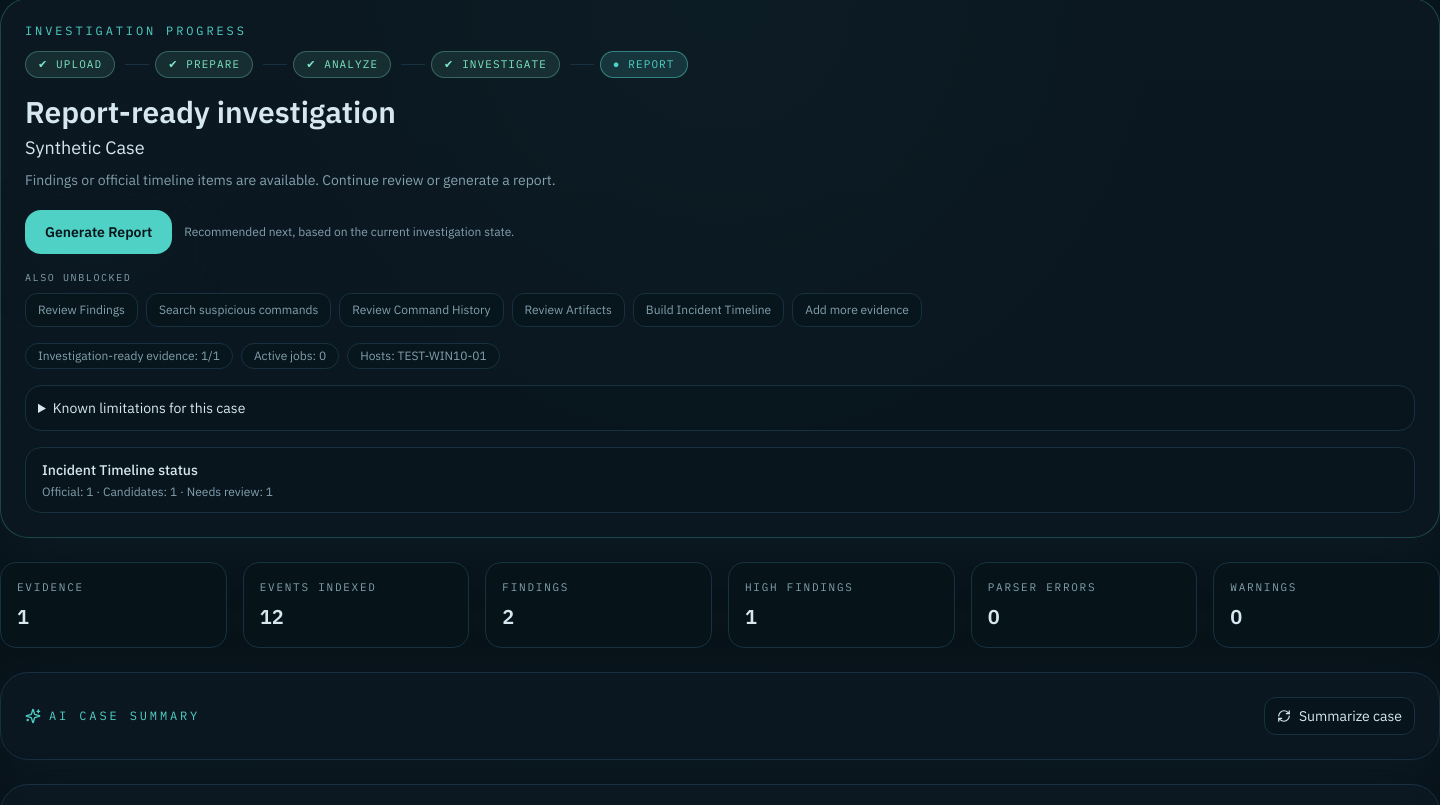
CaseOverviewPage › AI case summary › streams a summary on demand and discloses it as AI-generated
The image size is (1440, 805).
Click the button "Summarize case".
click(1340, 716)  # box top-left (1264, 697), bottom-right (1415, 735)
(page scrolled)
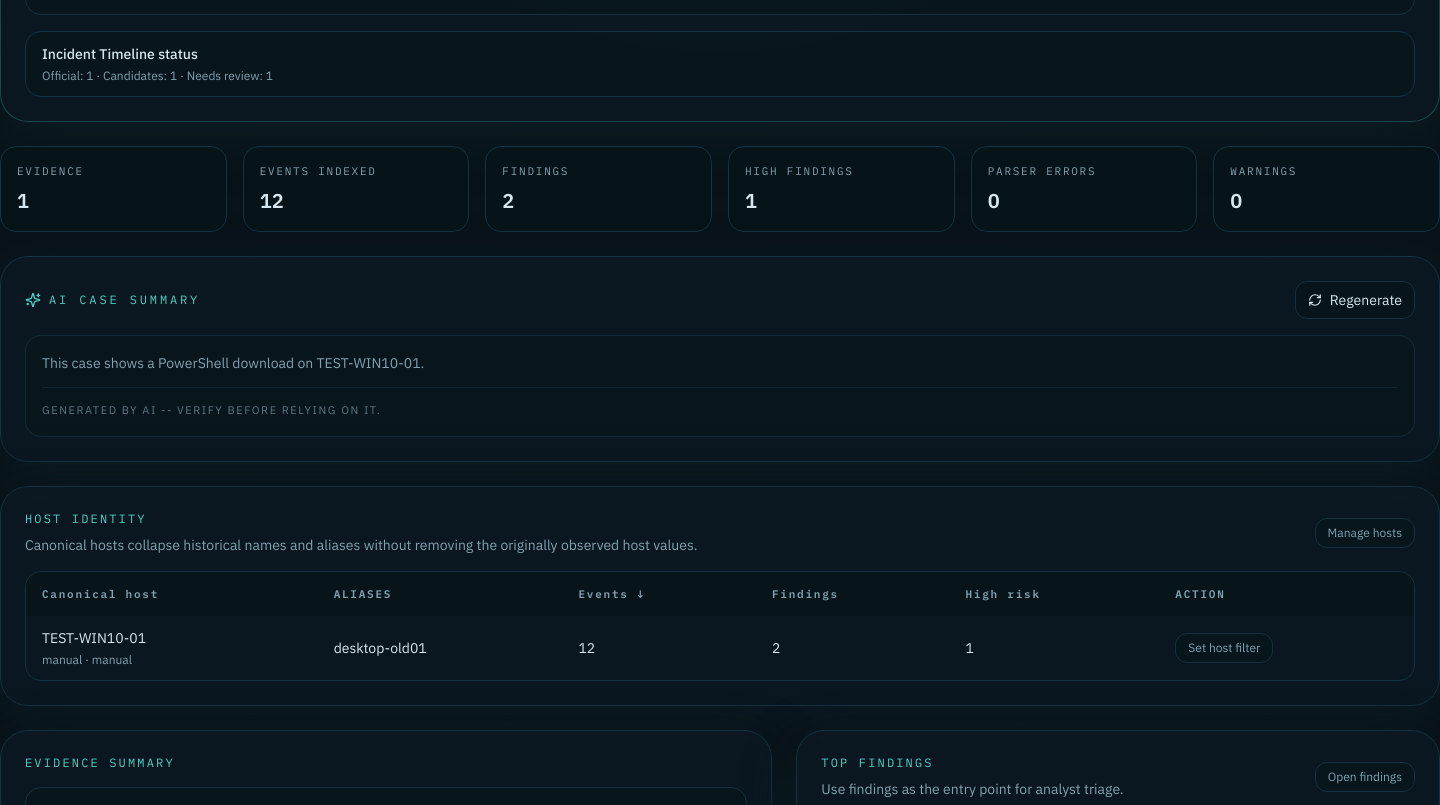
Now the text "This case shows a PowerShell download on TEST-WIN10-01." is shown, box top-left (42, 354), bottom-right (424, 372)
Now the text "Generated by AI -- verify before relying on it." is shown, box top-left (42, 387), bottom-right (1398, 420)
